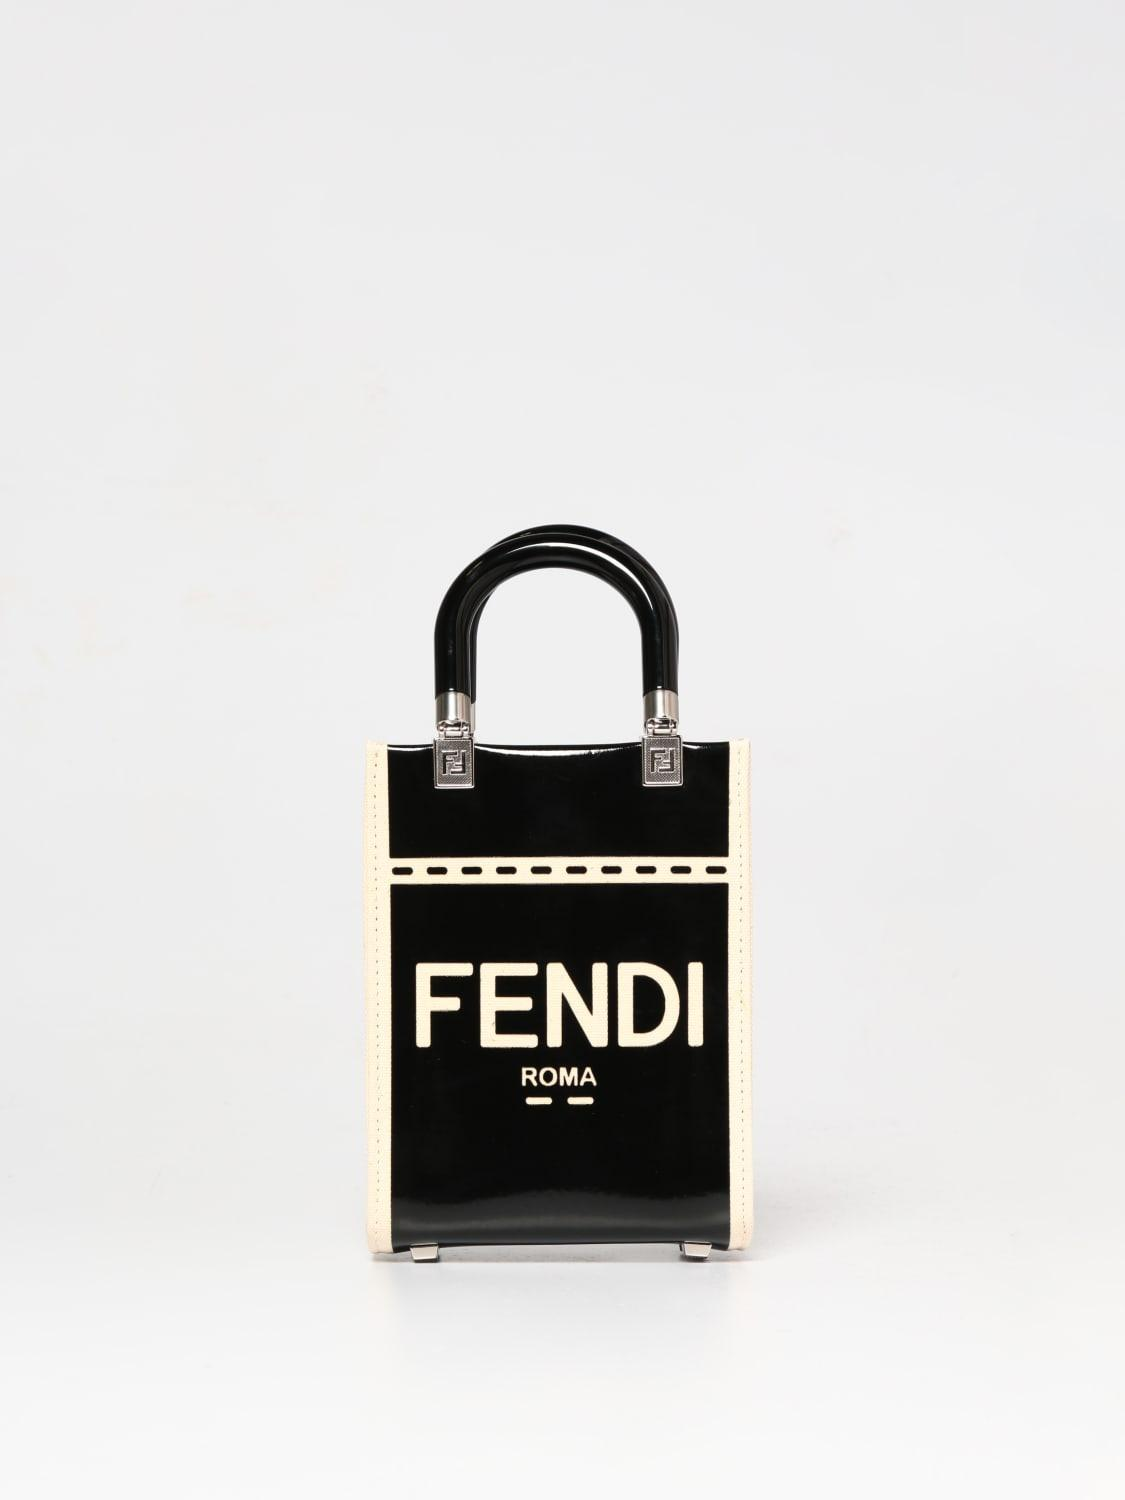FENDI: (415, 961, 704, 1048)
